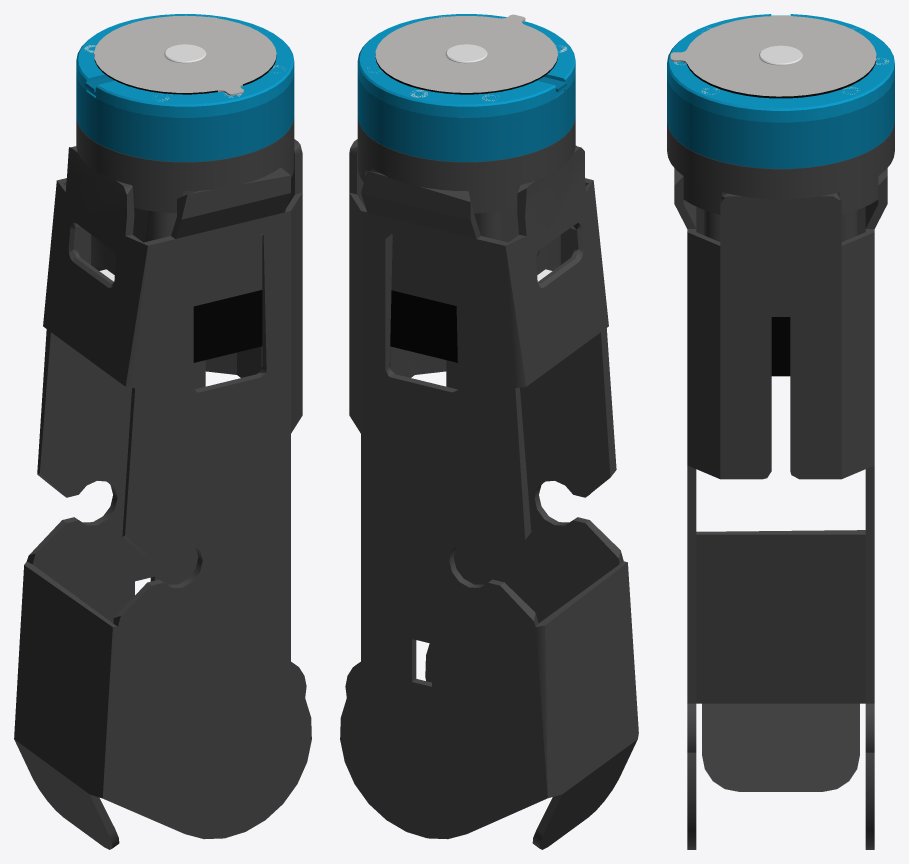
File: l_upperarm_link.dae
3 renders of one model, left to right at view 1: azimuth 30°, elevation 25°; view 2: azimuth 150°, elevation 25°; view 3: azimuth 270°, elevation 25°, orthographic. The views are drawn at different scales.
Visible parts, largest first — view 1: FBXASC227FBXASC130FBXASC189FBXASC227FBXASC131FBXASC170FBXASC (×7); view 2: FBXASC227FBXASC130FBXASC189FBXASC227FBXASC131FBXASC170FBXASC (×7); view 3: FBXASC227FBXASC130FBXASC189FBXASC227FBXASC131FBXASC170FBXASC (×7).
Part boxes in pixels (box(x1,y1,x2,y2)): FBXASC227FBXASC130FBXASC189FBXASC227FBXASC131FBXASC170FBXASC (×7): box(14, 14, 311, 849); FBXASC227FBXASC130FBXASC189FBXASC227FBXASC131FBXASC170FBXASC (×7): box(340, 14, 638, 849); FBXASC227FBXASC130FBXASC189FBXASC227FBXASC131FBXASC170FBXASC (×7): box(667, 14, 894, 849).
Size of the model in its own units: 0.0749 by 0.062 by 0.2369.
